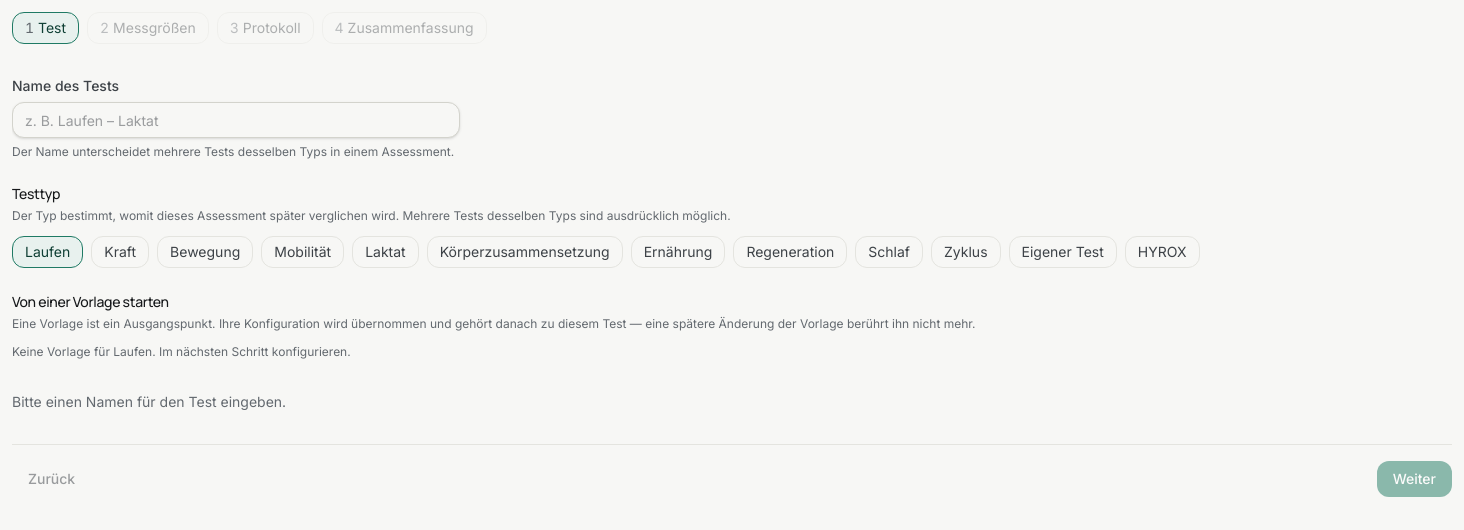
Test: starting from a template › still proposes the template name where the field is empty
Click the button "Laktat": (385, 252) [352, 236, 419, 268]
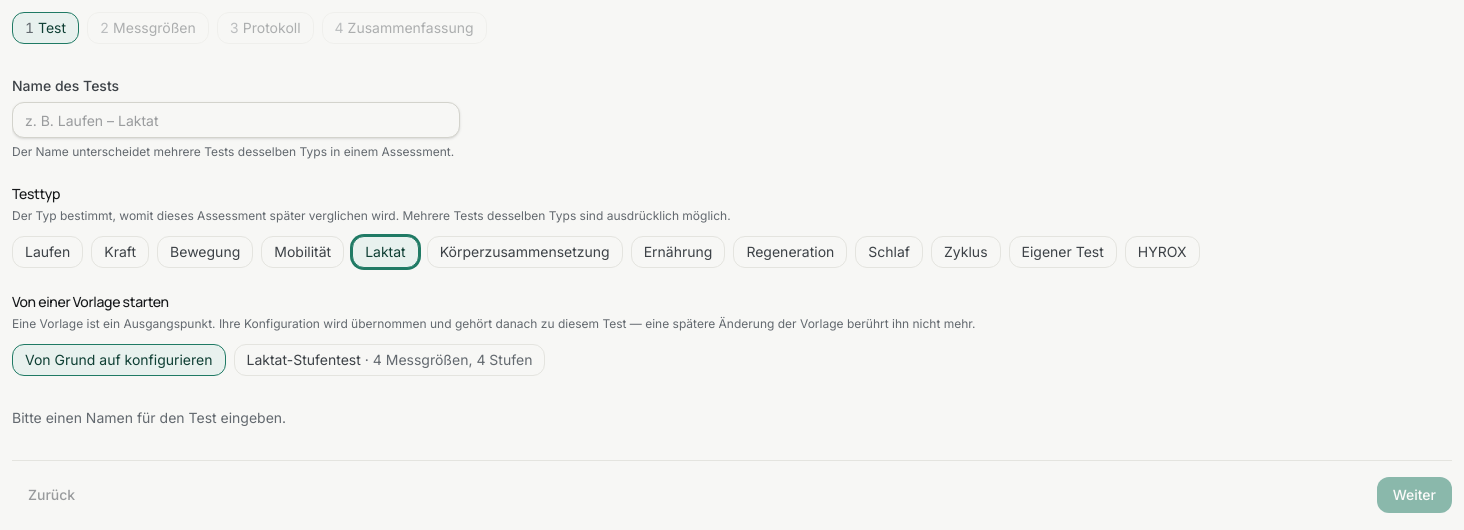
Click the button "Laktat-Stufentest · 4 Messgrößen, 4 Stufen": (389, 360) [234, 344, 545, 376]
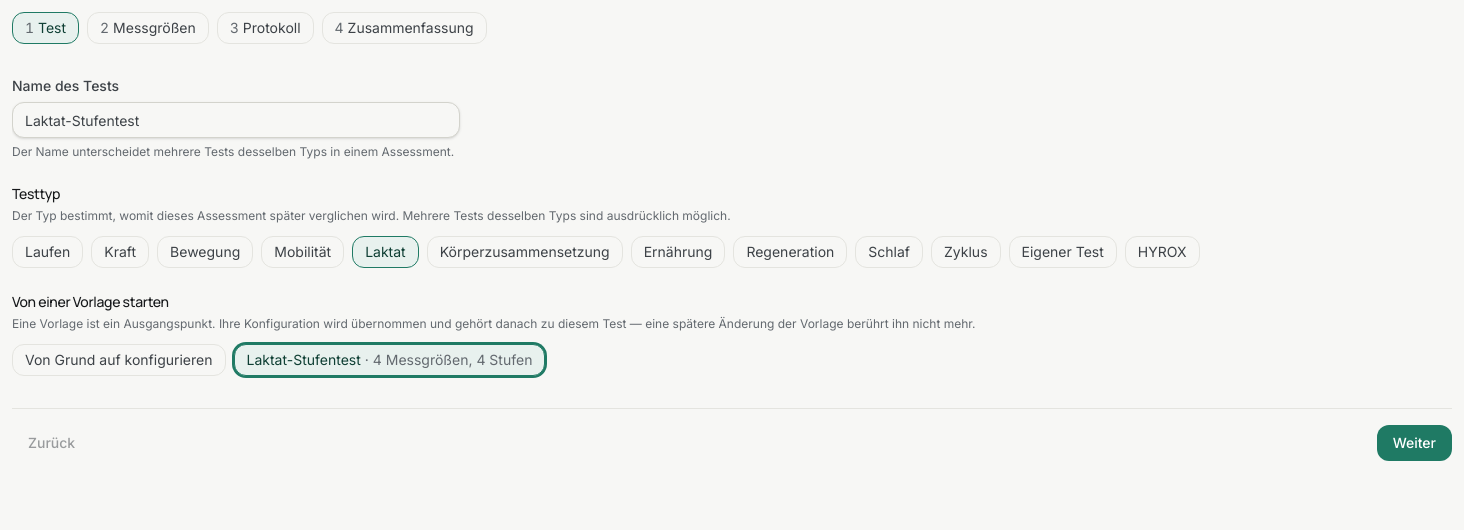
Check: the field labelled "Name des Tests" holds "Laktat-Stufentest", box [12, 102, 460, 138]
